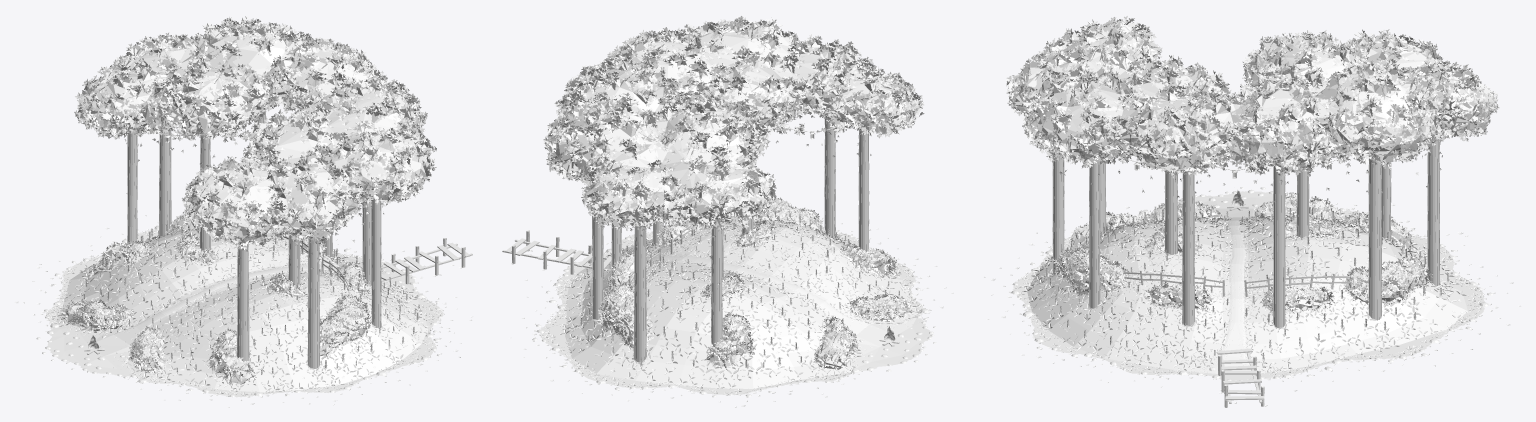
File: forest_lighting_wip.glb
3 renders of one model, left to right at view 1: azimuth 30°, elevation 25°; view 2: azimuth 150°, elevation 25°; view 3: azimuth 270°, elevation 25°, orthographic. The views are drawn at different scales.
Visible parts, largest first — view 1: Base_Mesh; view 2: Base_Mesh; view 3: Base_Mesh.
Part boxes in pixels (bbox=[...]): Base_Mesh: bbox=[14, 16, 472, 407]; Base_Mesh: bbox=[502, 16, 953, 407]; Base_Mesh: bbox=[983, 16, 1520, 407].
Bounding box in the file's own units: 26.08 × 14.08 × 26.27.
Materials: 2 (2 with a texture image).
